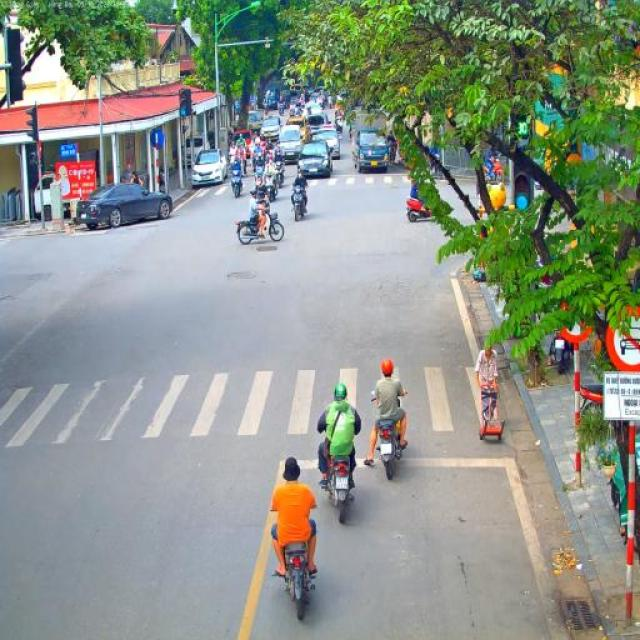car: (73, 180, 173, 231), (191, 148, 229, 187), (296, 140, 332, 178), (279, 125, 303, 164), (181, 135, 204, 170), (314, 130, 340, 160), (284, 118, 308, 146), (260, 116, 282, 145), (305, 114, 326, 137), (234, 130, 252, 154), (311, 122, 333, 140), (246, 112, 262, 136), (306, 102, 320, 118)
motorcycle: (270, 503, 319, 621), (320, 436, 360, 524), (370, 389, 408, 480), (235, 207, 286, 246), (548, 316, 574, 376), (406, 197, 434, 223), (580, 382, 604, 412), (290, 184, 308, 222), (250, 186, 270, 214), (483, 160, 505, 184), (264, 172, 278, 198), (428, 158, 444, 180), (273, 160, 286, 186), (230, 175, 244, 199), (236, 154, 248, 180), (253, 153, 264, 181), (388, 140, 397, 164), (333, 115, 342, 134), (263, 106, 271, 120), (289, 108, 296, 121), (279, 104, 285, 117)
truck: (351, 114, 390, 174), (262, 87, 292, 109), (287, 83, 305, 105)
